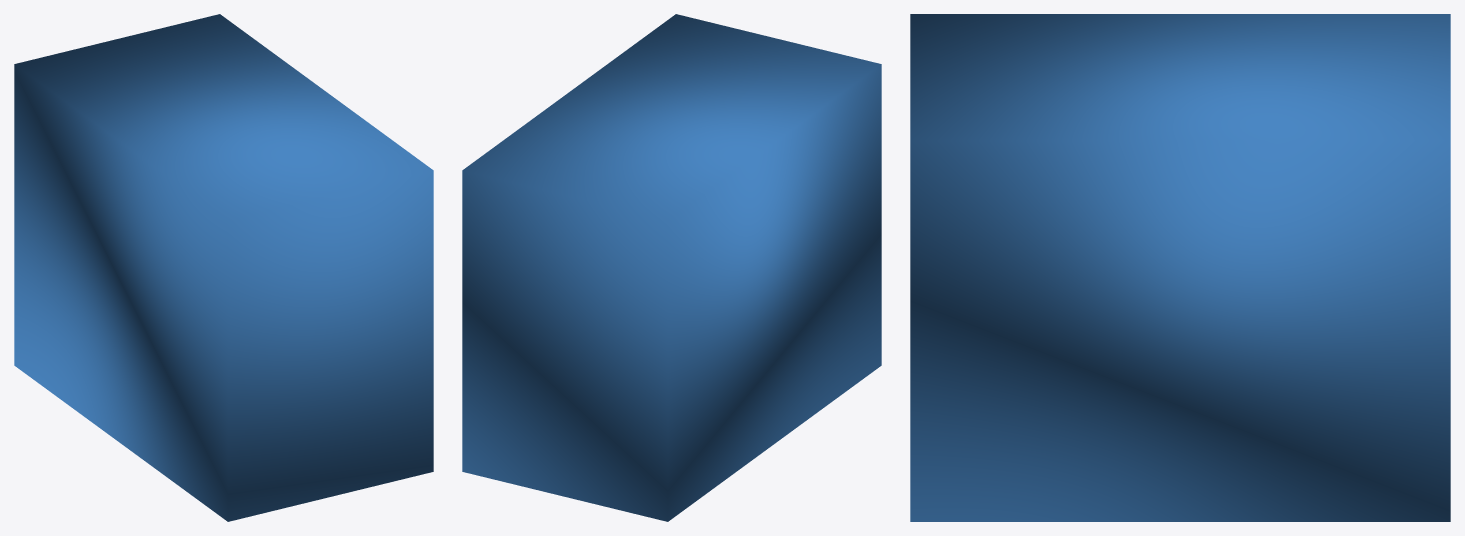
Rendered from cube_assimp_ascii.fbx.
3 renders of one model, left to right at view 1: azimuth 30°, elevation 25°; view 2: azimuth 150°, elevation 25°; view 3: azimuth 270°, elevation 25°, orthographic. The views are drawn at different scales.
Parts seen in each view (by area): view 1: litegen_matrix_cube; view 2: litegen_matrix_cube; view 3: litegen_matrix_cube.
Part boxes in pixels (x1,y1,x2,y2): litegen_matrix_cube: [14, 14, 433, 521]; litegen_matrix_cube: [462, 14, 881, 521]; litegen_matrix_cube: [910, 14, 1450, 521].
Bounding box in the file's own units: 5 × 7 × 9.
